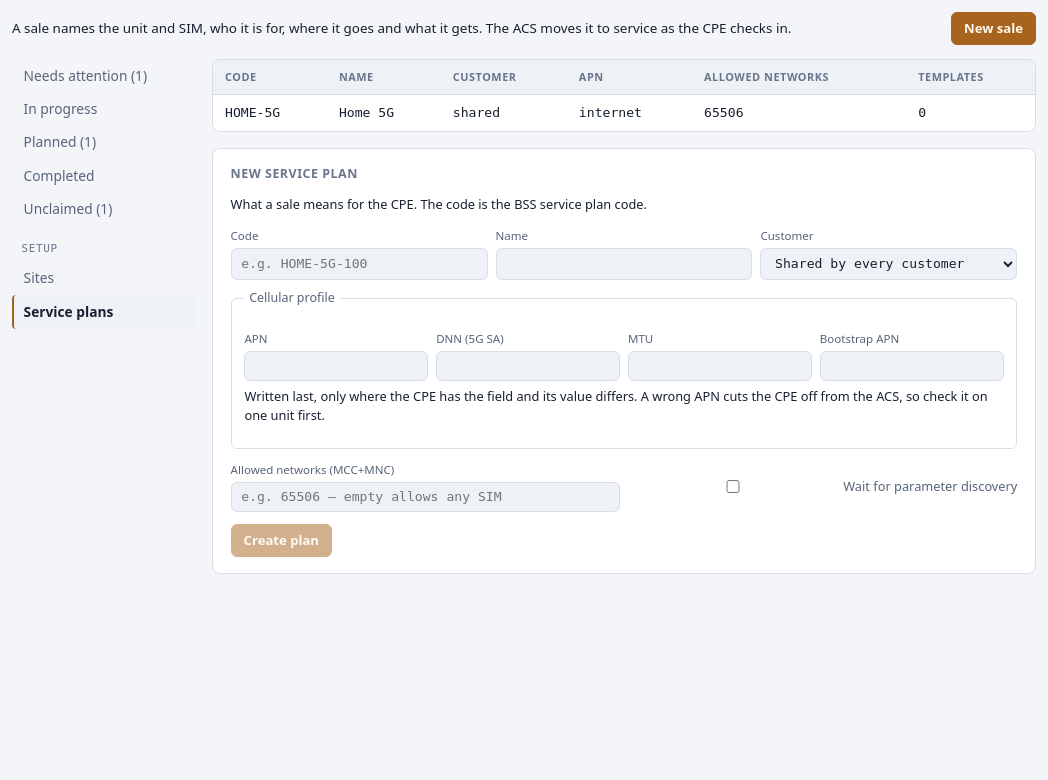
Onboarding screen › refuses an allowed network that is not MCC+MNC before it reaches the API
Type "P1" into the field labelled "Code" at (359, 264), box [231,248,488,280]
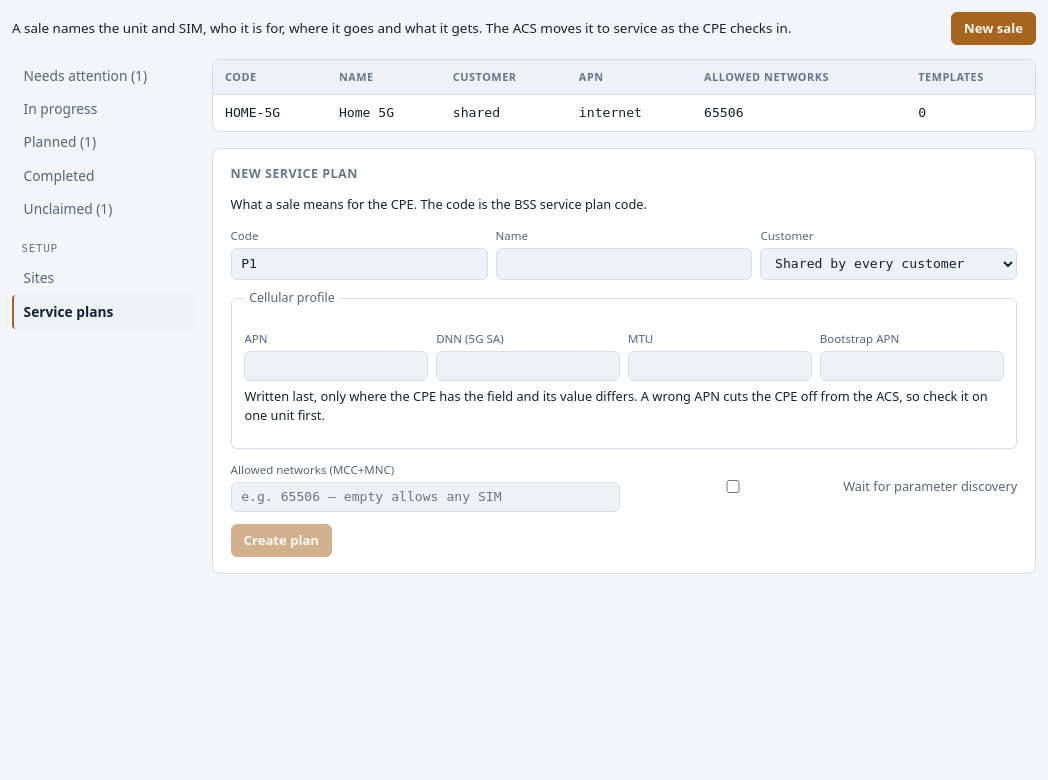
Type "Plan 1" into the field labelled "Name" at (624, 264), box [496,248,752,280]
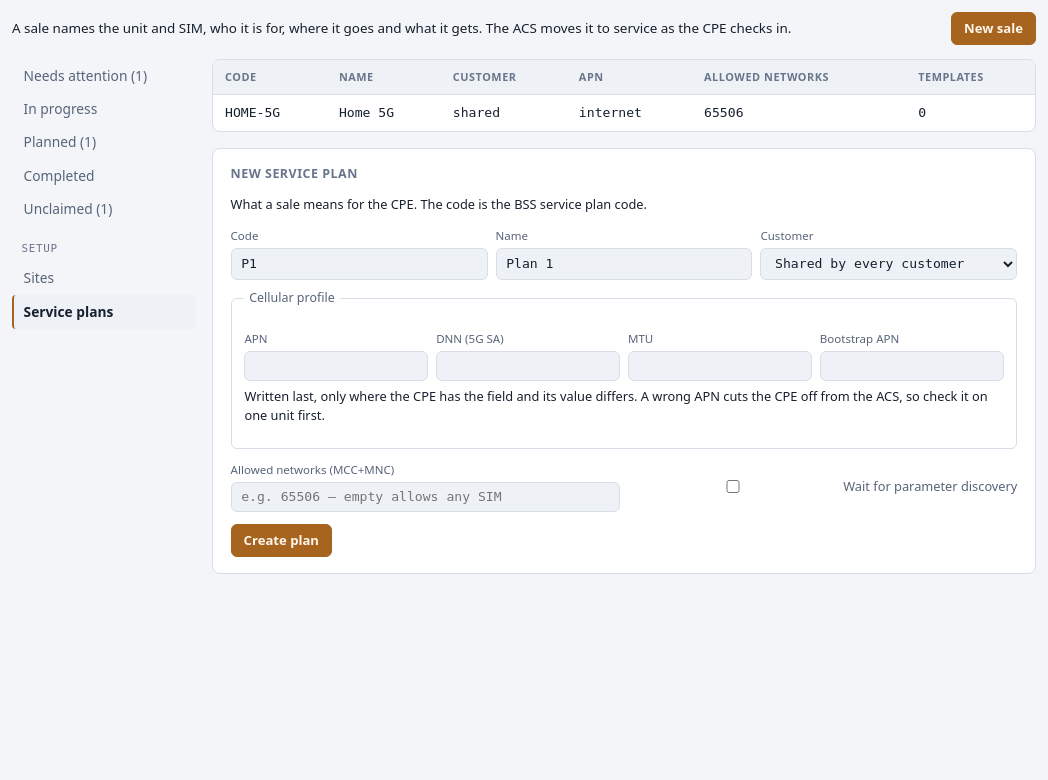
Type "65506 MTN" into the field labelled "Allowed networks (MCC+MNC)" at (425, 497), box [231,482,620,512]
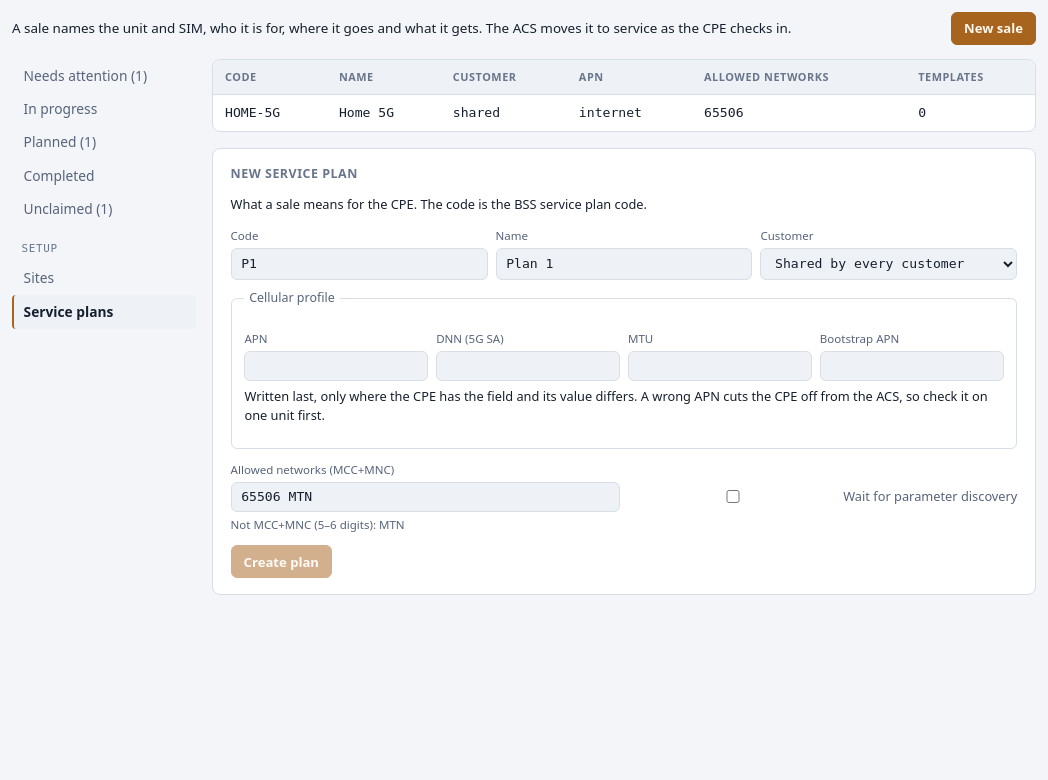
Expected: the text "Not MCC+MNC (5–6 digits): MTN" is shown, [231,517,405,532]
Expected: the button "Create plan" is disabled, [231,545,332,578]
